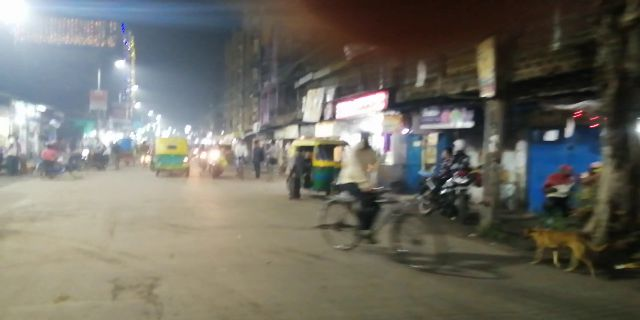Autorickshaw: (152, 137, 196, 184)
Cycle: (313, 130, 462, 278)
